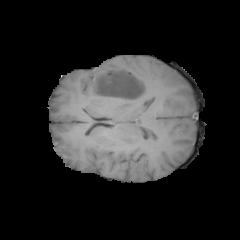glioma: (85, 68, 147, 169)
